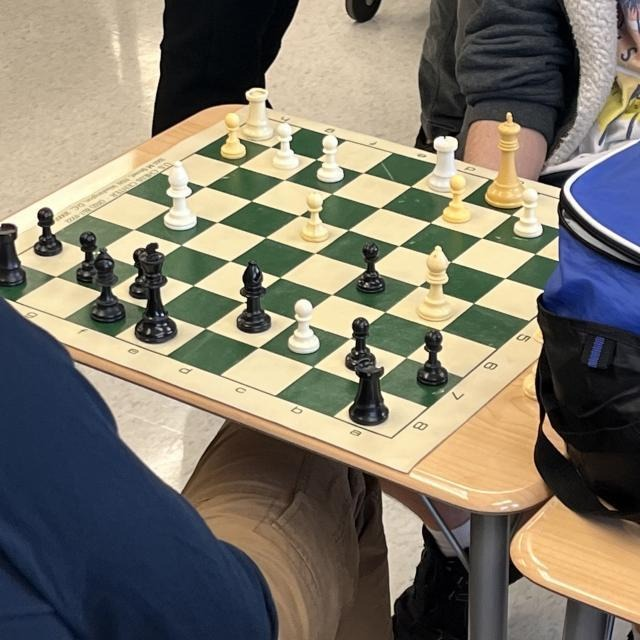black-bishop: (236, 259, 271, 333), (88, 247, 123, 321)
black-king: (134, 241, 178, 342)
black-pawn: (415, 330, 448, 385), (354, 241, 386, 295), (342, 318, 375, 370), (73, 230, 102, 282), (34, 206, 62, 256), (129, 247, 154, 297)
black-rook: (347, 359, 389, 425), (0, 222, 26, 288)
white-bishop: (417, 245, 453, 322), (163, 159, 197, 230)
white-king: (486, 112, 526, 208)
white-pawn: (288, 298, 320, 353), (299, 192, 329, 244), (512, 189, 543, 239), (442, 174, 471, 223), (271, 121, 299, 171), (319, 135, 343, 183), (219, 115, 244, 159)
white-rook: (427, 136, 465, 192), (244, 87, 272, 141)
